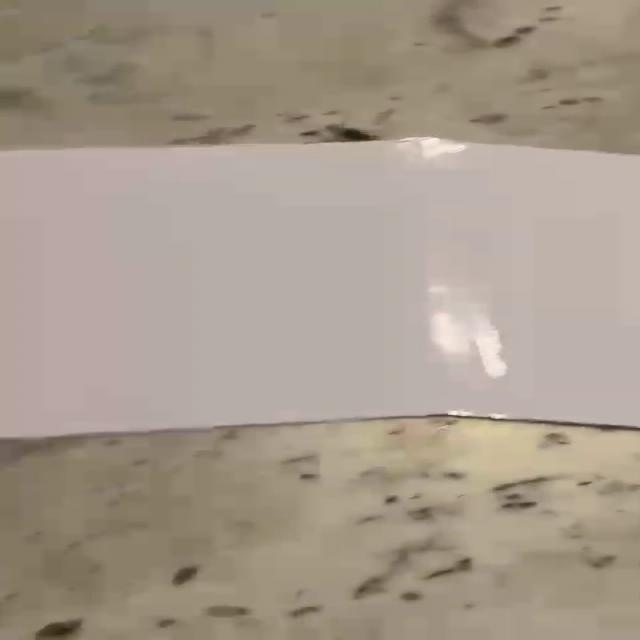road: (3, 137, 637, 437)
